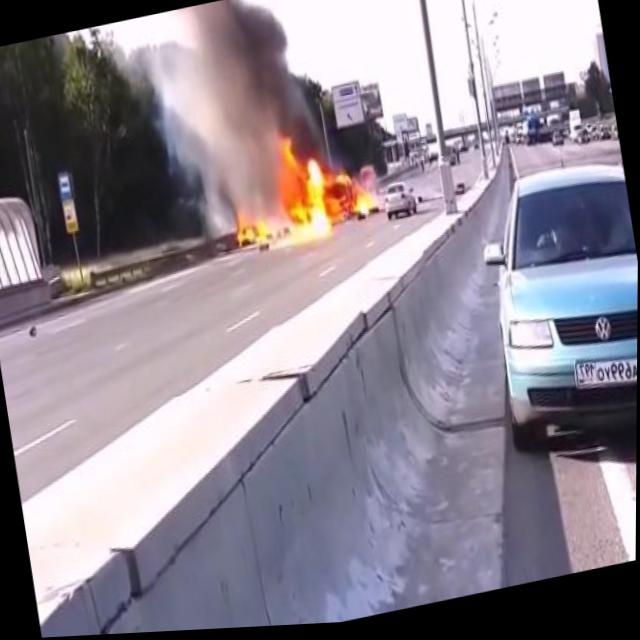fire: (211, 123, 381, 267)
